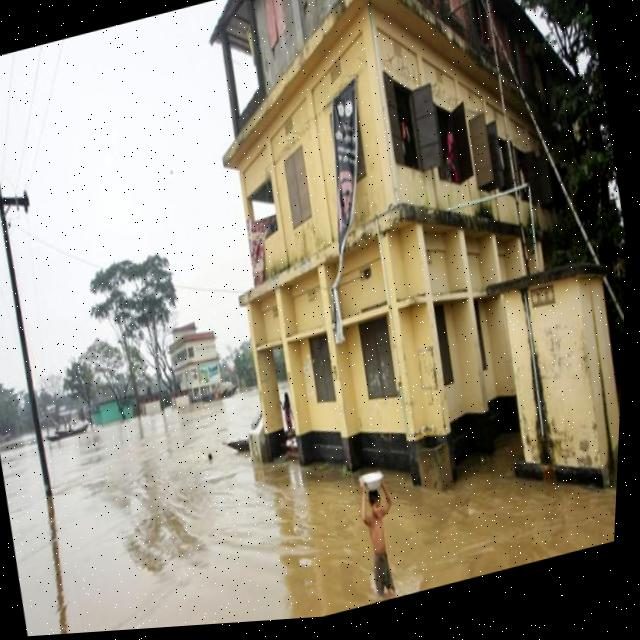civilian: (343, 469, 418, 604)
